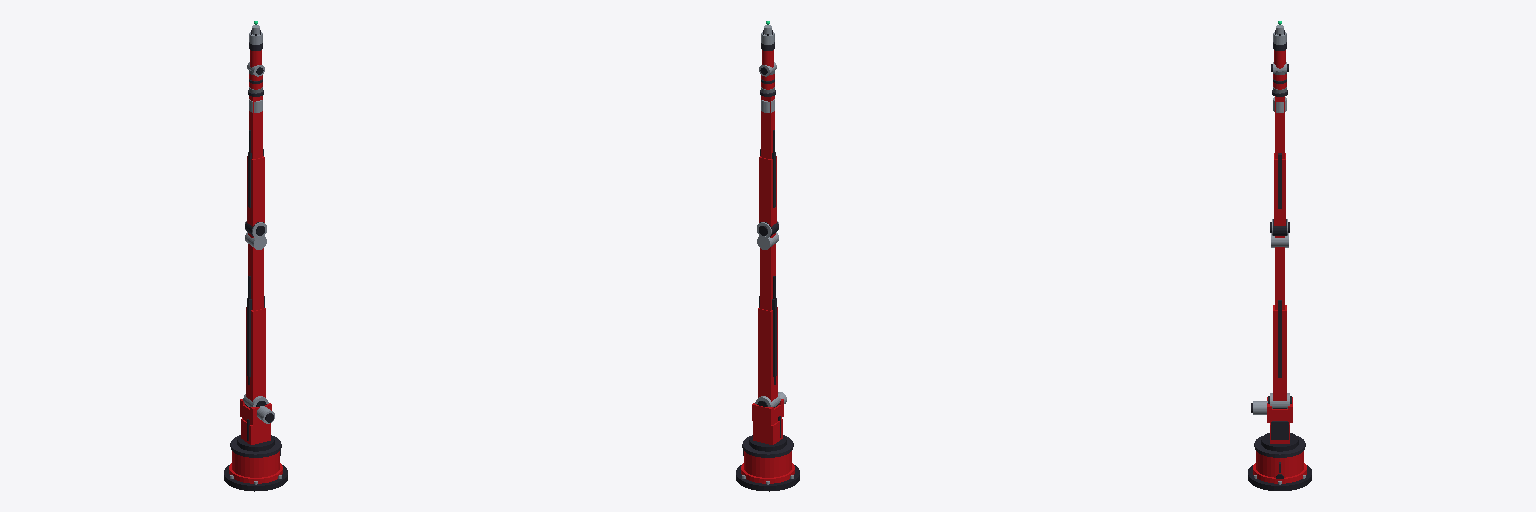
The robot description file, URDF, robot "abb_irb6700_150_320":
<?xml version="1.0" encoding="utf-8"?>
<robot name="abb_irb6700_150_320">
  <!-- ABB IRB 6700-150/320 — procedurally generated by orolp.robot_library.urdf_builder (payload 150 kg, reach 3200 mm, 6 DOF, repeatability ±0.1 mm). Appearance: 60 primitives in 'industrial' style (primary/accent/metal/dark 4-role palette). No vendor CAD assets. Parameters verified=False. -->
  <link name="base_link">
    <visual>
      <origin xyz="0 0 0.02304" rpy="0 0 0"/>
      <geometry>
        <cylinder radius="0.247314" length="0.04608"/>
      </geometry>
      <material name="base_link_mat_0">
        <color rgba="0.17 0.17 0.204 1"/>
      </material>
    </visual>
    <visual>
      <origin xyz="0 0 0.06624" rpy="0 0 0"/>
      <geometry>
        <cylinder radius="0.20671" length="0.04032"/>
      </geometry>
      <material name="base_link_mat_1">
        <color rgba="0.8 0.11 0.14 1"/>
      </material>
    </visual>
    <visual>
      <origin xyz="0 0 0.17568" rpy="0 0 0"/>
      <geometry>
        <cylinder radius="0.184563" length="0.17856"/>
      </geometry>
      <material name="base_link_mat_2">
        <color rgba="0.8 0.11 0.14 1"/>
      </material>
    </visual>
    <visual>
      <origin xyz="0 0 0.2736" rpy="0 0 0"/>
      <geometry>
        <cylinder radius="0.195637" length="0.0288"/>
      </geometry>
      <material name="base_link_mat_3">
        <color rgba="0.2 0.2 0.24 1"/>
      </material>
    </visual>
    <visual>
      <origin xyz="0.166107 0 0.17856" rpy="0 0 0"/>
      <geometry>
        <box size="0.095973 0.022148 0.07488"/>
      </geometry>
      <material name="base_link_mat_4">
        <color rgba="0.2 0.2 0.24 1"/>
      </material>
    </visual>
    <visual>
      <origin xyz="0.169798 0 0.0864" rpy="0 1.570796 0"/>
      <geometry>
        <cylinder radius="0.031376" length="0.055369"/>
      </geometry>
      <material name="base_link_mat_5">
        <color rgba="0.17 0.17 0.204 1"/>
      </material>
    </visual>
    <visual>
      <origin xyz="0.210402 0 0.03744" rpy="0 0 0"/>
      <geometry>
        <cylinder radius="0.013842" length="0.06336"/>
      </geometry>
      <material name="base_link_mat_6">
        <color rgba="0.6 0.63 0.67 1"/>
      </material>
    </visual>
    <visual>
      <origin xyz="0.105201 0.182213 0.03744" rpy="0 0 0"/>
      <geometry>
        <cylinder radius="0.013842" length="0.06336"/>
      </geometry>
      <material name="base_link_mat_7">
        <color rgba="0.6 0.63 0.67 1"/>
      </material>
    </visual>
    <visual>
      <origin xyz="-0.105201 0.182213 0.03744" rpy="0 0 0"/>
      <geometry>
        <cylinder radius="0.013842" length="0.06336"/>
      </geometry>
      <material name="base_link_mat_8">
        <color rgba="0.6 0.63 0.67 1"/>
      </material>
    </visual>
    <visual>
      <origin xyz="-0.210402 0 0.03744" rpy="0 0 0"/>
      <geometry>
        <cylinder radius="0.013842" length="0.06336"/>
      </geometry>
      <material name="base_link_mat_9">
        <color rgba="0.6 0.63 0.67 1"/>
      </material>
    </visual>
    <visual>
      <origin xyz="-0.105201 -0.182213 0.03744" rpy="0 0 0"/>
      <geometry>
        <cylinder radius="0.013842" length="0.06336"/>
      </geometry>
      <material name="base_link_mat_10">
        <color rgba="0.6 0.63 0.67 1"/>
      </material>
    </visual>
    <visual>
      <origin xyz="0.105201 -0.182213 0.03744" rpy="0 0 0"/>
      <geometry>
        <cylinder radius="0.013842" length="0.06336"/>
      </geometry>
      <material name="base_link_mat_11">
        <color rgba="0.6 0.63 0.67 1"/>
      </material>
    </visual>
    <collision>
      <origin xyz="0 0 0.144" rpy="0 0 0"/>
      <geometry>
        <cylinder radius="0.184563" length="0.288"/>
      </geometry>
    </collision>
  </link>
  <joint name="joint_1" type="revolute">
    <parent link="base_link"/>
    <child link="link_1"/>
    <origin xyz="0 0 0.288" rpy="0 0 0"/>
    <axis xyz="0 0 1"/>
    <limit lower="-3.141593" upper="3.141593" effort="940" velocity="1.745329"/>
  </joint>
  <link name="link_1">
    <visual>
      <origin xyz="0 0 0.019052" rpy="0 0 0"/>
      <geometry>
        <cylinder radius="0.142887" length="0.038103"/>
      </geometry>
      <material name="link_1_mat_0">
        <color rgba="0.17 0.17 0.204 1"/>
      </material>
    </visual>
    <visual>
      <origin xyz="0 0 0.119063" rpy="0 0 0"/>
      <geometry>
        <box size="0.180991 0.154795 0.16192"/>
      </geometry>
      <material name="link_1_mat_1">
        <color rgba="0.8 0.11 0.14 1"/>
      </material>
    </visual>
    <visual>
      <origin xyz="0 0 0.259863" rpy="0 0 0"/>
      <geometry>
        <box size="0.159558 0.133362 0.11968"/>
      </geometry>
      <material name="link_1_mat_2">
        <color rgba="0.8 0.11 0.14 1"/>
      </material>
    </visual>
    <visual>
      <origin xyz="0 0.078588 0.2816" rpy="0 0 0"/>
      <geometry>
        <box size="0.166702 0.040485 0.1408"/>
      </geometry>
      <material name="link_1_mat_3">
        <color rgba="0.8 0.11 0.14 1"/>
      </material>
    </visual>
    <visual>
      <origin xyz="0 -0.078588 0.2816" rpy="0 0 0"/>
      <geometry>
        <box size="0.166702 0.040485 0.1408"/>
      </geometry>
      <material name="link_1_mat_4">
        <color rgba="0.8 0.11 0.14 1"/>
      </material>
    </visual>
    <visual>
      <origin xyz="0 -0.140506 0.30272" rpy="1.570796 0 0"/>
      <geometry>
        <cylinder radius="0.052392" length="0.125026"/>
      </geometry>
      <material name="link_1_mat_5">
        <color rgba="0.6 0.63 0.67 1"/>
      </material>
    </visual>
    <visual>
      <origin xyz="0 -0.209568 0.30272" rpy="1.570796 0 0"/>
      <geometry>
        <cylinder radius="0.035722" length="0.019052"/>
      </geometry>
      <material name="link_1_mat_6">
        <color rgba="0.17 0.17 0.204 1"/>
      </material>
    </visual>
    <visual>
      <origin xyz="-0.083351 -0.03334 0.14784" rpy="0 0 0"/>
      <geometry>
        <cylinder radius="0.013098" length="0.176"/>
      </geometry>
      <material name="link_1_mat_7">
        <color rgba="0.17 0.17 0.204 1"/>
      </material>
    </visual>
    <visual>
      <origin xyz="0.085732 0 0.14784" rpy="0 0 0"/>
      <geometry>
        <box size="0.011907 0.138124 0.15488"/>
      </geometry>
      <material name="link_1_mat_8">
        <color rgba="0.2 0.2 0.24 1"/>
      </material>
    </visual>
    <collision>
      <origin xyz="0 0 0.176" rpy="0 0 0"/>
      <geometry>
        <cylinder radius="0.142887" length="0.352"/>
      </geometry>
    </collision>
  </link>
  <joint name="joint_2" type="revolute">
    <parent link="link_1"/>
    <child link="link_2"/>
    <origin xyz="0 0 0.352" rpy="0 0 0"/>
    <axis xyz="0 1 0"/>
    <limit lower="-1.919862" upper="1.919862" effort="940" velocity="1.570796"/>
  </joint>
  <link name="link_2">
    <visual>
      <origin xyz="0 0 0.39744" rpy="0 0 0"/>
      <geometry>
        <box size="0.116691 0.100021 0.79488"/>
      </geometry>
      <material name="link_2_mat_0">
        <color rgba="0.8 0.11 0.14 1"/>
      </material>
    </visual>
    <visual>
      <origin xyz="0 0 1.104" rpy="0 0 0"/>
      <geometry>
        <box size="0.095258 0.08097 0.736"/>
      </geometry>
      <material name="link_2_mat_1">
        <color rgba="0.8 0.11 0.14 1"/>
      </material>
    </visual>
    <visual>
      <origin xyz="0 0 0.55936" rpy="0 0 0"/>
      <geometry>
        <box size="0.138124 0.035722 0.64768"/>
      </geometry>
      <material name="link_2_mat_2">
        <color rgba="0.2 0.2 0.24 1"/>
      </material>
    </visual>
    <visual>
      <origin xyz="0 0 0" rpy="1.570796 0 0"/>
      <geometry>
        <cylinder radius="0.069062" length="0.152413"/>
      </geometry>
      <material name="link_2_mat_3">
        <color rgba="0.6 0.63 0.67 1"/>
      </material>
    </visual>
    <visual>
      <origin xyz="0 0.083351 0" rpy="1.570796 0 0"/>
      <geometry>
        <cylinder radius="0.042866" length="0.011907"/>
      </geometry>
      <material name="link_2_mat_4">
        <color rgba="0.17 0.17 0.204 1"/>
      </material>
    </visual>
    <visual>
      <origin xyz="0 -0.083351 0" rpy="1.570796 0 0"/>
      <geometry>
        <cylinder radius="0.042866" length="0.011907"/>
      </geometry>
      <material name="link_2_mat_5">
        <color rgba="0.17 0.17 0.204 1"/>
      </material>
    </visual>
    <visual>
      <origin xyz="0 0 -0.105984" rpy="0 0 0"/>
      <geometry>
        <box size="0.128599 0.107166 0.2208"/>
      </geometry>
      <material name="link_2_mat_6">
        <color rgba="0.17 0.17 0.204 1"/>
      </material>
    </visual>
    <visual>
      <origin xyz="0 0 -0.223744" rpy="0 0 0"/>
      <geometry>
        <cylinder radius="0.069062" length="0.05888"/>
      </geometry>
      <material name="link_2_mat_7">
        <color rgba="0.17 0.17 0.204 1"/>
      </material>
    </visual>
    <visual>
      <origin xyz="0 0 1.36896" rpy="1.570796 0 0"/>
      <geometry>
        <cylinder radius="0.059536" length="0.13098"/>
      </geometry>
      <material name="link_2_mat_8">
        <color rgba="0.6 0.63 0.67 1"/>
      </material>
    </visual>
    <visual>
      <origin xyz="0 0 1.472" rpy="1.570796 0 0"/>
      <geometry>
        <cylinder radius="0.066681" length="0.102403"/>
      </geometry>
      <material name="link_2_mat_9">
        <color rgba="0.2 0.2 0.24 1"/>
      </material>
    </visual>
    <visual>
      <origin xyz="-0.054773 0 0.61824" rpy="0 0 0"/>
      <geometry>
        <cylinder radius="0.010717" length="0.91264"/>
      </geometry>
      <material name="link_2_mat_10">
        <color rgba="0.17 0.17 0.204 1"/>
      </material>
    </visual>
    <collision>
      <origin xyz="0 0 0.736" rpy="0 0 0"/>
      <geometry>
        <box size="0.119073 0.09764 1.472"/>
      </geometry>
    </collision>
  </link>
  <joint name="joint_3" type="revolute">
    <parent link="link_2"/>
    <child link="link_3"/>
    <origin xyz="0 0 1.472" rpy="0 0 0"/>
    <axis xyz="0 1 0"/>
    <limit lower="-3.926991" upper="1.48353" effort="940" velocity="1.570796"/>
  </joint>
  <link name="link_3">
    <visual>
      <origin xyz="0 0 0.29952" rpy="0 0 0"/>
      <geometry>
        <box size="0.109547 0.092877 0.59904"/>
      </geometry>
      <material name="link_3_mat_0">
        <color rgba="0.8 0.11 0.14 1"/>
      </material>
    </visual>
    <visual>
      <origin xyz="0 0 0.85248" rpy="0 0 0"/>
      <geometry>
        <box size="0.088114 0.073825 0.59904"/>
      </geometry>
      <material name="link_3_mat_1">
        <color rgba="0.8 0.11 0.14 1"/>
      </material>
    </visual>
    <visual>
      <origin xyz="0 0 0" rpy="1.570796 0 0"/>
      <geometry>
        <cylinder radius="0.064299" length="0.126217"/>
      </geometry>
      <material name="link_3_mat_2">
        <color rgba="0.6 0.63 0.67 1"/>
      </material>
    </visual>
    <visual>
      <origin xyz="0 0.069062 0" rpy="1.570796 0 0"/>
      <geometry>
        <cylinder radius="0.040485" length="0.011907"/>
      </geometry>
      <material name="link_3_mat_3">
        <color rgba="0.17 0.17 0.204 1"/>
      </material>
    </visual>
    <visual>
      <origin xyz="0 -0.069062 0" rpy="1.570796 0 0"/>
      <geometry>
        <cylinder radius="0.040485" length="0.011907"/>
      </geometry>
      <material name="link_3_mat_4">
        <color rgba="0.17 0.17 0.204 1"/>
      </material>
    </visual>
    <visual>
      <origin xyz="0 0 0.41472" rpy="0 0 0"/>
      <geometry>
        <box size="0.128599 0.03334 0.4608"/>
      </geometry>
      <material name="link_3_mat_5">
        <color rgba="0.2 0.2 0.24 1"/>
      </material>
    </visual>
    <visual>
      <origin xyz="0 0 1.0368" rpy="0 0 0"/>
      <geometry>
        <cylinder radius="0.054773" length="0.092877"/>
      </geometry>
      <material name="link_3_mat_6">
        <color rgba="0.6 0.63 0.67 1"/>
      </material>
    </visual>
    <visual>
      <origin xyz="0 0 1.14048" rpy="0 0 0"/>
      <geometry>
        <cylinder radius="0.059536" length="0.023815"/>
      </geometry>
      <material name="link_3_mat_7">
        <color rgba="0.2 0.2 0.24 1"/>
      </material>
    </visual>
    <visual>
      <origin xyz="-0.050011 0 0.50688" rpy="0 0 0"/>
      <geometry>
        <cylinder radius="0.009526" length="0.64512"/>
      </geometry>
      <material name="link_3_mat_8">
        <color rgba="0.17 0.17 0.204 1"/>
      </material>
    </visual>
    <collision>
      <origin xyz="0 0 0.576" rpy="0 0 0"/>
      <geometry>
        <box size="0.111928 0.091781 1.152"/>
      </geometry>
    </collision>
  </link>
  <joint name="joint_4" type="revolute">
    <parent link="link_3"/>
    <child link="link_4"/>
    <origin xyz="0 0 1.152" rpy="0 0 0"/>
    <axis xyz="0 0 1"/>
    <limit lower="-3.490659" upper="3.490659" effort="940" velocity="3.054326"/>
  </joint>
  <link name="link_4">
    <visual>
      <origin xyz="0 0 0.096" rpy="0 0 0"/>
      <geometry>
        <cylinder radius="0.050011" length="0.18048"/>
      </geometry>
      <material name="link_4_mat_0">
        <color rgba="0.8 0.11 0.14 1"/>
      </material>
    </visual>
    <visual>
      <origin xyz="0 0 0.0192" rpy="0 0 0"/>
      <geometry>
        <cylinder radius="0.054773" length="0.03072"/>
      </geometry>
      <material name="link_4_mat_1">
        <color rgba="0.432 0.4536 0.4824 1"/>
      </material>
    </visual>
    <visual>
      <origin xyz="0 0 0.1728" rpy="0 0 0"/>
      <geometry>
        <cylinder radius="0.054773" length="0.03072"/>
      </geometry>
      <material name="link_4_mat_2">
        <color rgba="0.432 0.4536 0.4824 1"/>
      </material>
    </visual>
    <visual>
      <origin xyz="0 0 0.096" rpy="0 0 0"/>
      <geometry>
        <cylinder radius="0.057155" length="0.0192"/>
      </geometry>
      <material name="link_4_mat_3">
        <color rgba="0.2 0.2 0.24 1"/>
      </material>
    </visual>
    <collision>
      <origin xyz="0 0 0.096" rpy="0 0 0"/>
      <geometry>
        <cylinder radius="0.052392" length="0.192"/>
      </geometry>
    </collision>
  </link>
  <joint name="joint_5" type="revolute">
    <parent link="link_4"/>
    <child link="link_5"/>
    <origin xyz="0 0 0.192" rpy="0 0 0"/>
    <axis xyz="0 1 0"/>
    <limit lower="-2.094395" upper="2.094395" effort="940" velocity="2.96706"/>
  </joint>
  <link name="link_5">
    <visual>
      <origin xyz="0 0 0" rpy="1.570796 0 0"/>
      <geometry>
        <cylinder radius="0.047629" length="0.109547"/>
      </geometry>
      <material name="link_5_mat_0">
        <color rgba="0.6 0.63 0.67 1"/>
      </material>
    </visual>
    <visual>
      <origin xyz="0 0 0.0864" rpy="0 0 0"/>
      <geometry>
        <cylinder radius="0.045248" length="0.16512"/>
      </geometry>
      <material name="link_5_mat_1">
        <color rgba="0.8 0.11 0.14 1"/>
      </material>
    </visual>
    <visual>
      <origin xyz="0 0 0.18048" rpy="0 0 0"/>
      <geometry>
        <cylinder radius="0.050011" length="0.03072"/>
      </geometry>
      <material name="link_5_mat_2">
        <color rgba="0.2 0.2 0.24 1"/>
      </material>
    </visual>
    <visual>
      <origin xyz="0 0.059536 0" rpy="1.570796 0 0"/>
      <geometry>
        <cylinder radius="0.028577" length="0.011907"/>
      </geometry>
      <material name="link_5_mat_3">
        <color rgba="0.17 0.17 0.204 1"/>
      </material>
    </visual>
    <visual>
      <origin xyz="0 -0.059536 0" rpy="1.570796 0 0"/>
      <geometry>
        <cylinder radius="0.028577" length="0.011907"/>
      </geometry>
      <material name="link_5_mat_4">
        <color rgba="0.17 0.17 0.204 1"/>
      </material>
    </visual>
    <collision>
      <origin xyz="0 0 0.096" rpy="0 0 0"/>
      <geometry>
        <box size="0.101212 0.082994 0.192"/>
      </geometry>
    </collision>
  </link>
  <joint name="joint_6" type="revolute">
    <parent link="link_5"/>
    <child link="tool0"/>
    <origin xyz="0 0 0.192" rpy="0 0 0"/>
    <axis xyz="0 0 1"/>
    <limit lower="-6.981317" upper="6.981317" effort="940" velocity="4.363323"/>
  </joint>
  <link name="tool0">
    <visual>
      <origin xyz="0 0 0.04992" rpy="0 0 0"/>
      <geometry>
        <cylinder radius="0.050011" length="0.09984"/>
      </geometry>
      <material name="tool0_mat_0">
        <color rgba="0.6 0.63 0.67 1"/>
      </material>
    </visual>
    <visual>
      <origin xyz="0 0 0.12864" rpy="0 0 0"/>
      <geometry>
        <cylinder radius="0.031007" length="0.0576"/>
      </geometry>
      <material name="tool0_mat_1">
        <color rgba="0.6 0.63 0.67 1"/>
      </material>
    </visual>
    <visual>
      <origin xyz="0 0 0.01344" rpy="0 0 0"/>
      <geometry>
        <cylinder radius="0.053011" length="0.02688"/>
      </geometry>
      <material name="tool0_mat_2">
        <color rgba="0.2 0.2 0.24 1"/>
      </material>
    </visual>
    <visual>
      <origin xyz="0.039008 0 0.096" rpy="0 0 0"/>
      <geometry>
        <cylinder radius="0.004501" length="0.04224"/>
      </geometry>
      <material name="tool0_mat_3">
        <color rgba="0.17 0.17 0.204 1"/>
      </material>
    </visual>
    <visual>
      <origin xyz="0.019504 0.033782 0.096" rpy="0 0 0"/>
      <geometry>
        <cylinder radius="0.004501" length="0.04224"/>
      </geometry>
      <material name="tool0_mat_4">
        <color rgba="0.17 0.17 0.204 1"/>
      </material>
    </visual>
    <visual>
      <origin xyz="-0.019504 0.033782 0.096" rpy="0 0 0"/>
      <geometry>
        <cylinder radius="0.004501" length="0.04224"/>
      </geometry>
      <material name="tool0_mat_5">
        <color rgba="0.17 0.17 0.204 1"/>
      </material>
    </visual>
    <visual>
      <origin xyz="-0.039008 0 0.096" rpy="0 0 0"/>
      <geometry>
        <cylinder radius="0.004501" length="0.04224"/>
      </geometry>
      <material name="tool0_mat_6">
        <color rgba="0.17 0.17 0.204 1"/>
      </material>
    </visual>
    <visual>
      <origin xyz="-0.019504 -0.033782 0.096" rpy="0 0 0"/>
      <geometry>
        <cylinder radius="0.004501" length="0.04224"/>
      </geometry>
      <material name="tool0_mat_7">
        <color rgba="0.17 0.17 0.204 1"/>
      </material>
    </visual>
    <visual>
      <origin xyz="0.019504 -0.033782 0.096" rpy="0 0 0"/>
      <geometry>
        <cylinder radius="0.004501" length="0.04224"/>
      </geometry>
      <material name="tool0_mat_8">
        <color rgba="0.17 0.17 0.204 1"/>
      </material>
    </visual>
    <collision>
      <origin xyz="0 0 0.096" rpy="0 0 0"/>
      <geometry>
        <cylinder radius="0.050011" length="0.192"/>
      </geometry>
    </collision>
  </link>
  <link name="tcp">
    <visual>
      <origin xyz="0 0 0" rpy="0 0 0"/>
      <geometry>
        <sphere radius="0.017004"/>
      </geometry>
      <material name="tcp_mat">
        <color rgba="0.15 0.85 0.55 1"/>
      </material>
    </visual>
  </link>
  <joint name="tcp_joint" type="fixed">
    <parent link="tool0"/>
    <child link="tcp"/>
    <origin xyz="0 0 0.192" rpy="0 0 0"/>
  </joint>
</robot>

--- What the picture shows (computed from the rendered views, not written in the file) ---
Views: 3 orthographic renders of the robot side by side, from view 1: azimuth 30°, elevation 25°; view 2: azimuth 150°, elevation 25°; view 3: azimuth 270°, elevation 25°.
Robot: abb_irb6700_150_320 — 8 links, 7 joints (6 revolute, 1 fixed); root link base_link; default pose: every joint at zero.
Visible links, largest first — view 1: link_2, base_link, link_3, link_1; view 2: link_2, base_link, link_3, link_1; view 3: link_2, base_link, link_3, link_1.
Boxes of the visible links, left/top/right/bottom form: link_2: left=243, top=222, right=268, bottom=407; base_link: left=224, top=435, right=287, bottom=491; link_3: left=245, top=90, right=266, bottom=237; link_1: left=237, top=399, right=274, bottom=451; link_2: left=755, top=222, right=780, bottom=407; base_link: left=736, top=435, right=799, bottom=491; link_3: left=757, top=90, right=778, bottom=237; link_1: left=749, top=392, right=786, bottom=451; link_2: left=1268, top=219, right=1291, bottom=408; base_link: left=1248, top=436, right=1311, bottom=490; link_3: left=1270, top=90, right=1289, bottom=235; link_1: left=1251, top=397, right=1298, bottom=451.
Bounding box of the posed robot: 0.4946 × 0.4946 × 3.86 m (x, y, z).
Geometry: primitives only (box / cylinder / sphere), no mesh files.
